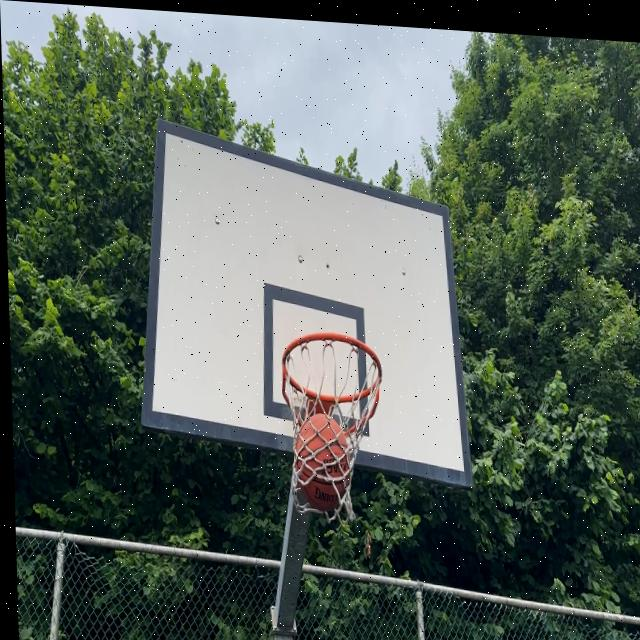Goal: (292, 413, 354, 515)
